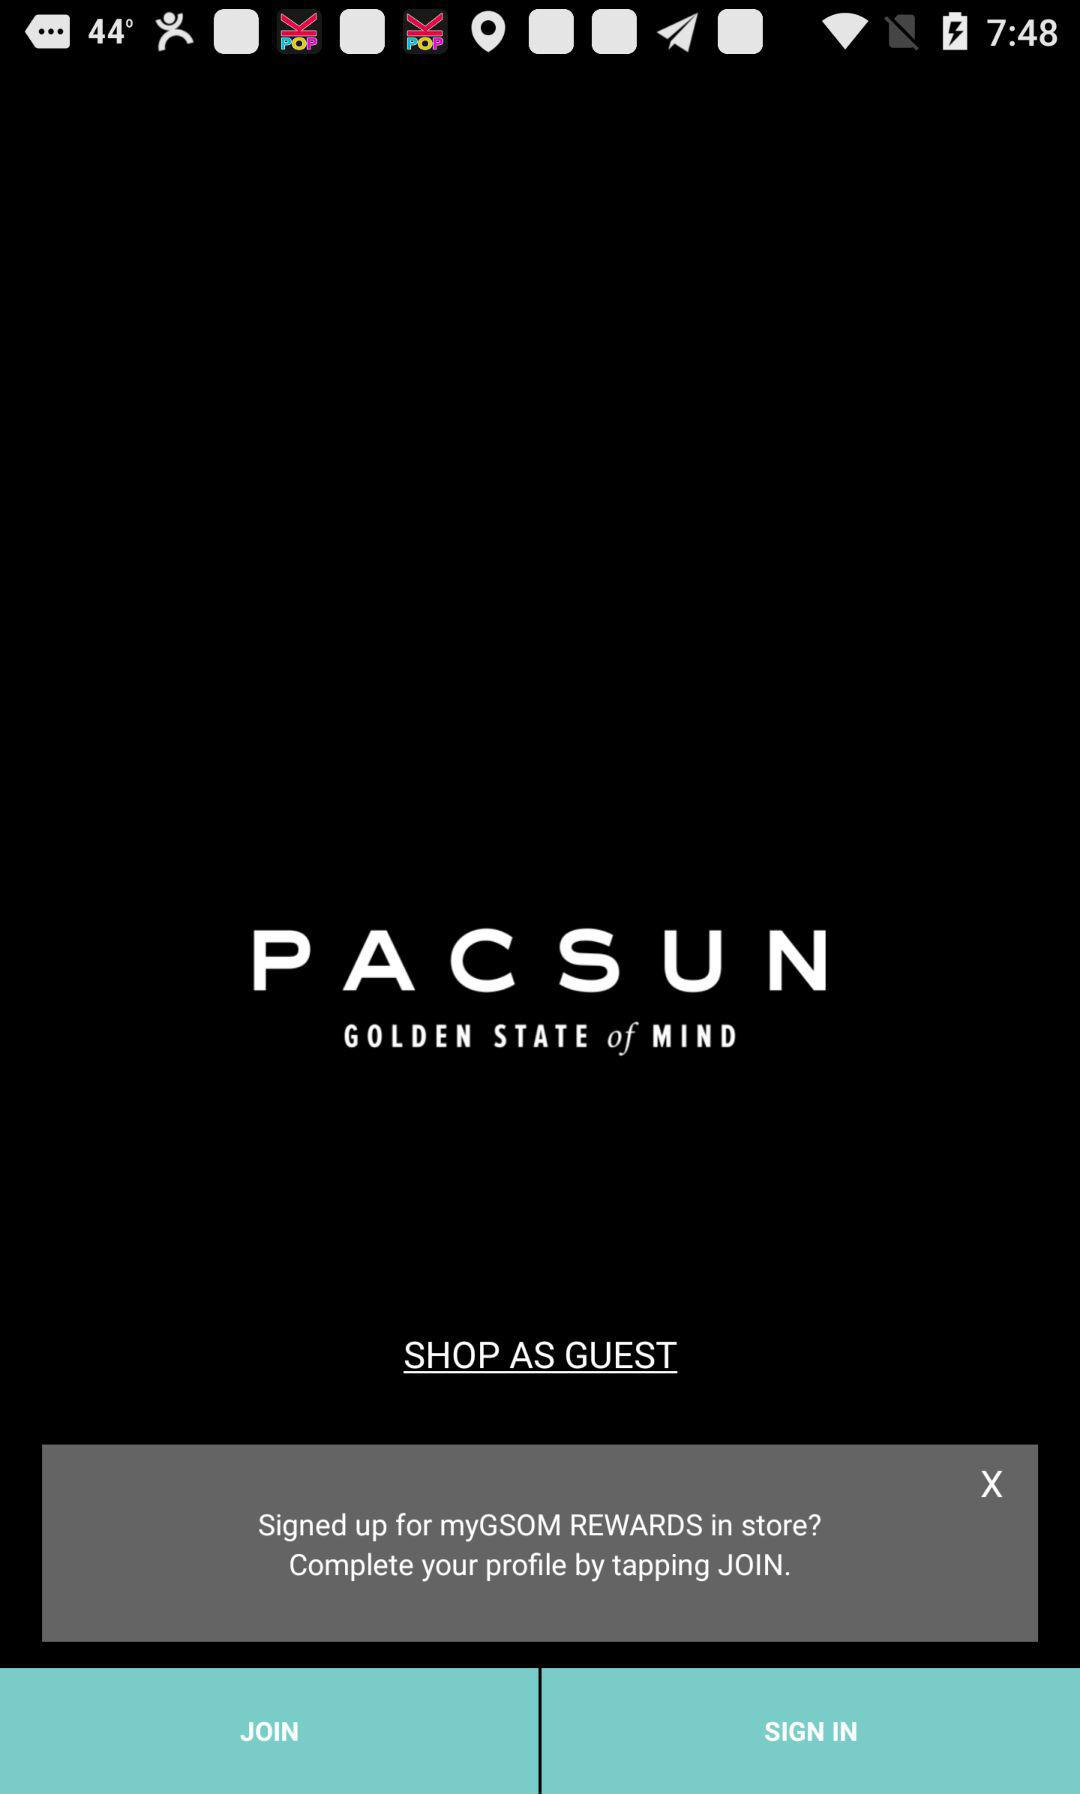Image: (252, 926, 828, 1058)
Text: (404, 1340, 679, 1375)
TextButton: (1, 1668, 539, 1794), (542, 1668, 1080, 1794)
UpperTaskBar: (1, 1, 1080, 64)
